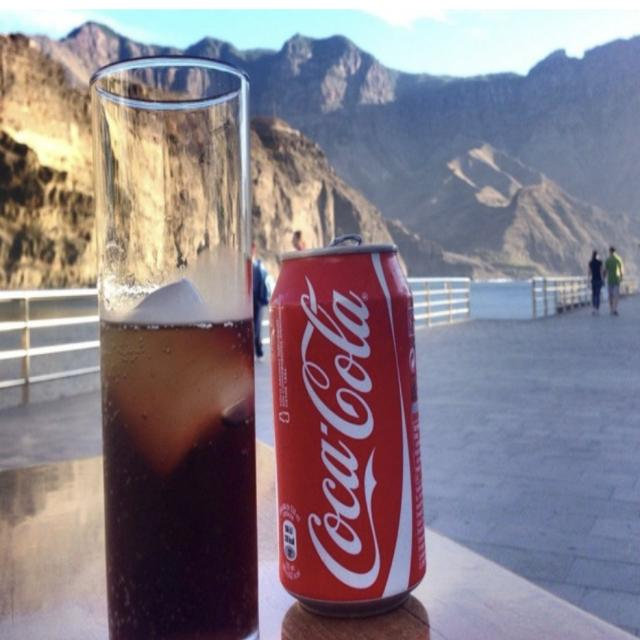recyclable: (63, 33, 280, 640), (249, 204, 439, 614)
